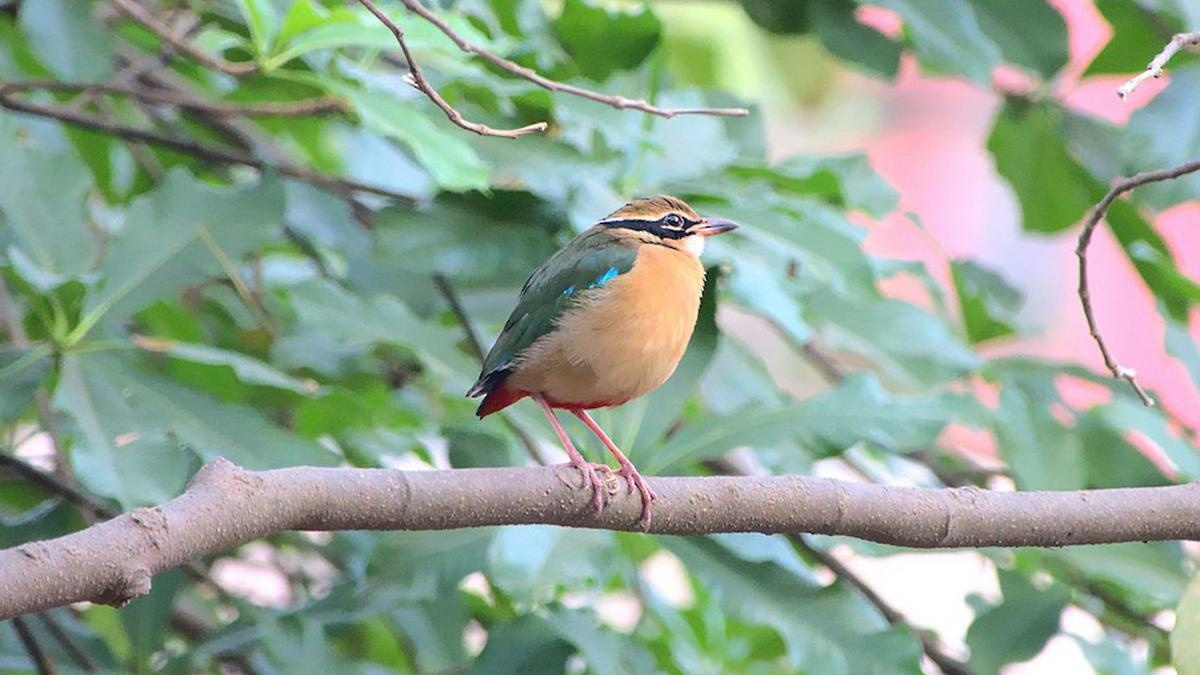pitta: (475, 170, 756, 549)
